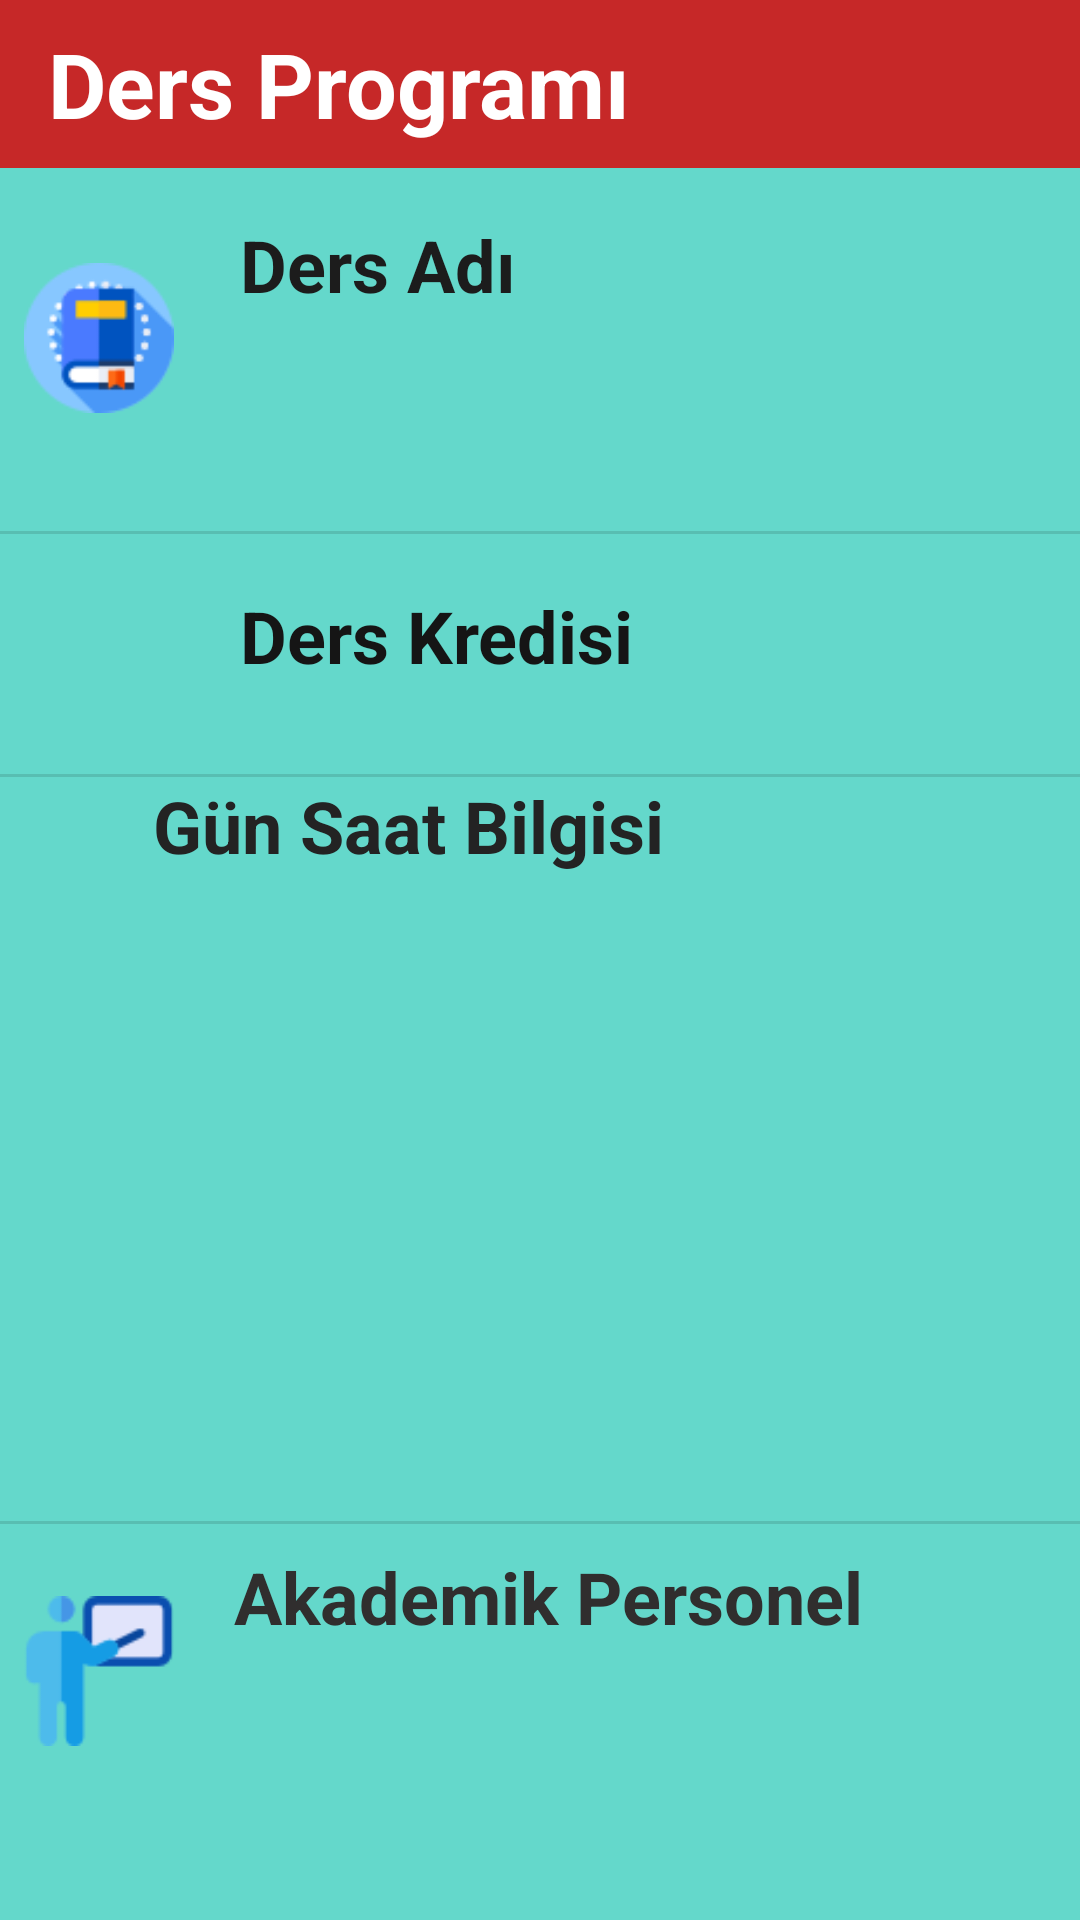

Icons on this 1080 × 1920 Android screen, each with the point to tap as point (x, y):
class: point (100, 1671)
learning: point (99, 338)
